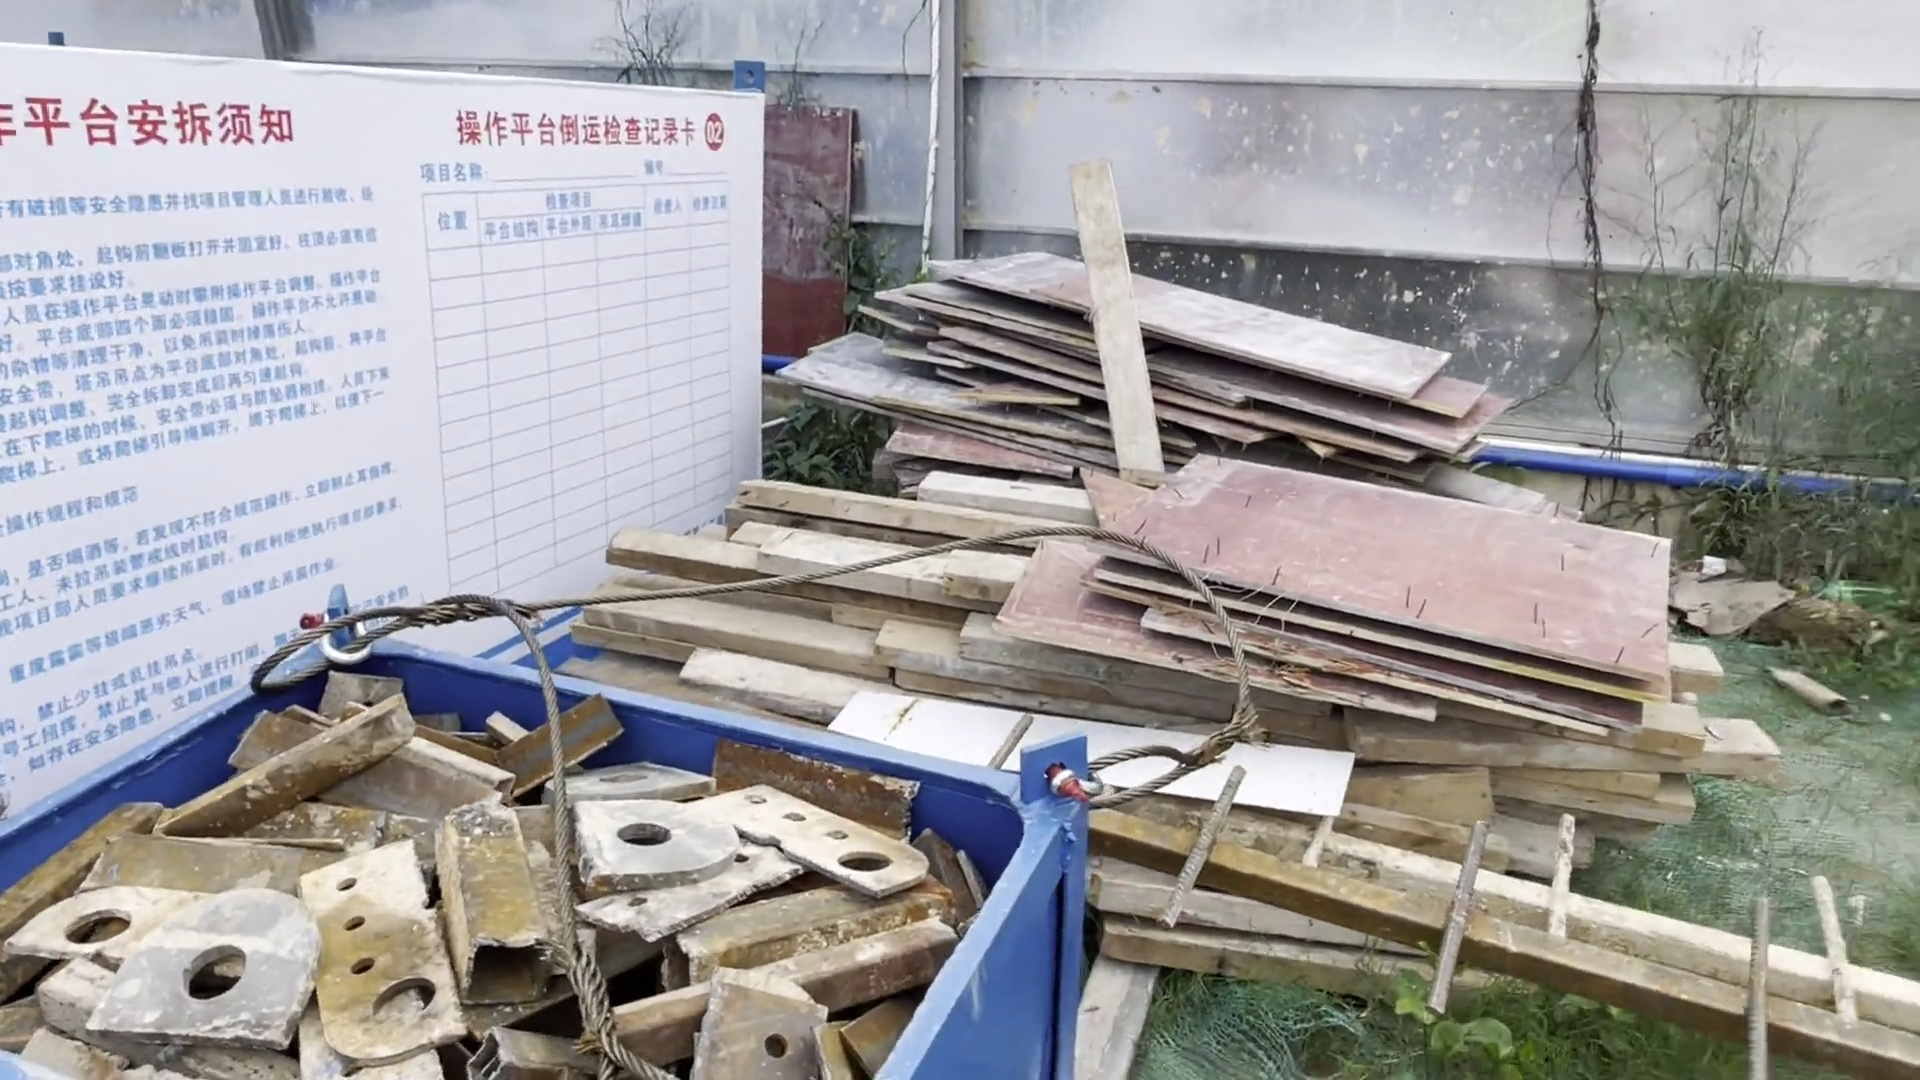board: (1034, 439, 1688, 749), (793, 229, 1507, 513)
hopper: (55, 593, 1158, 1080)
wood: (618, 481, 1040, 729)
